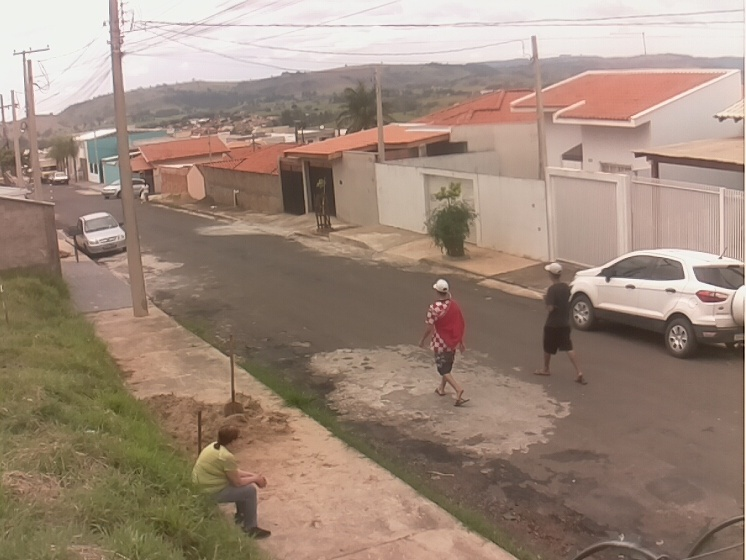person: (191, 425, 271, 538), (418, 278, 469, 406), (535, 261, 586, 385)
